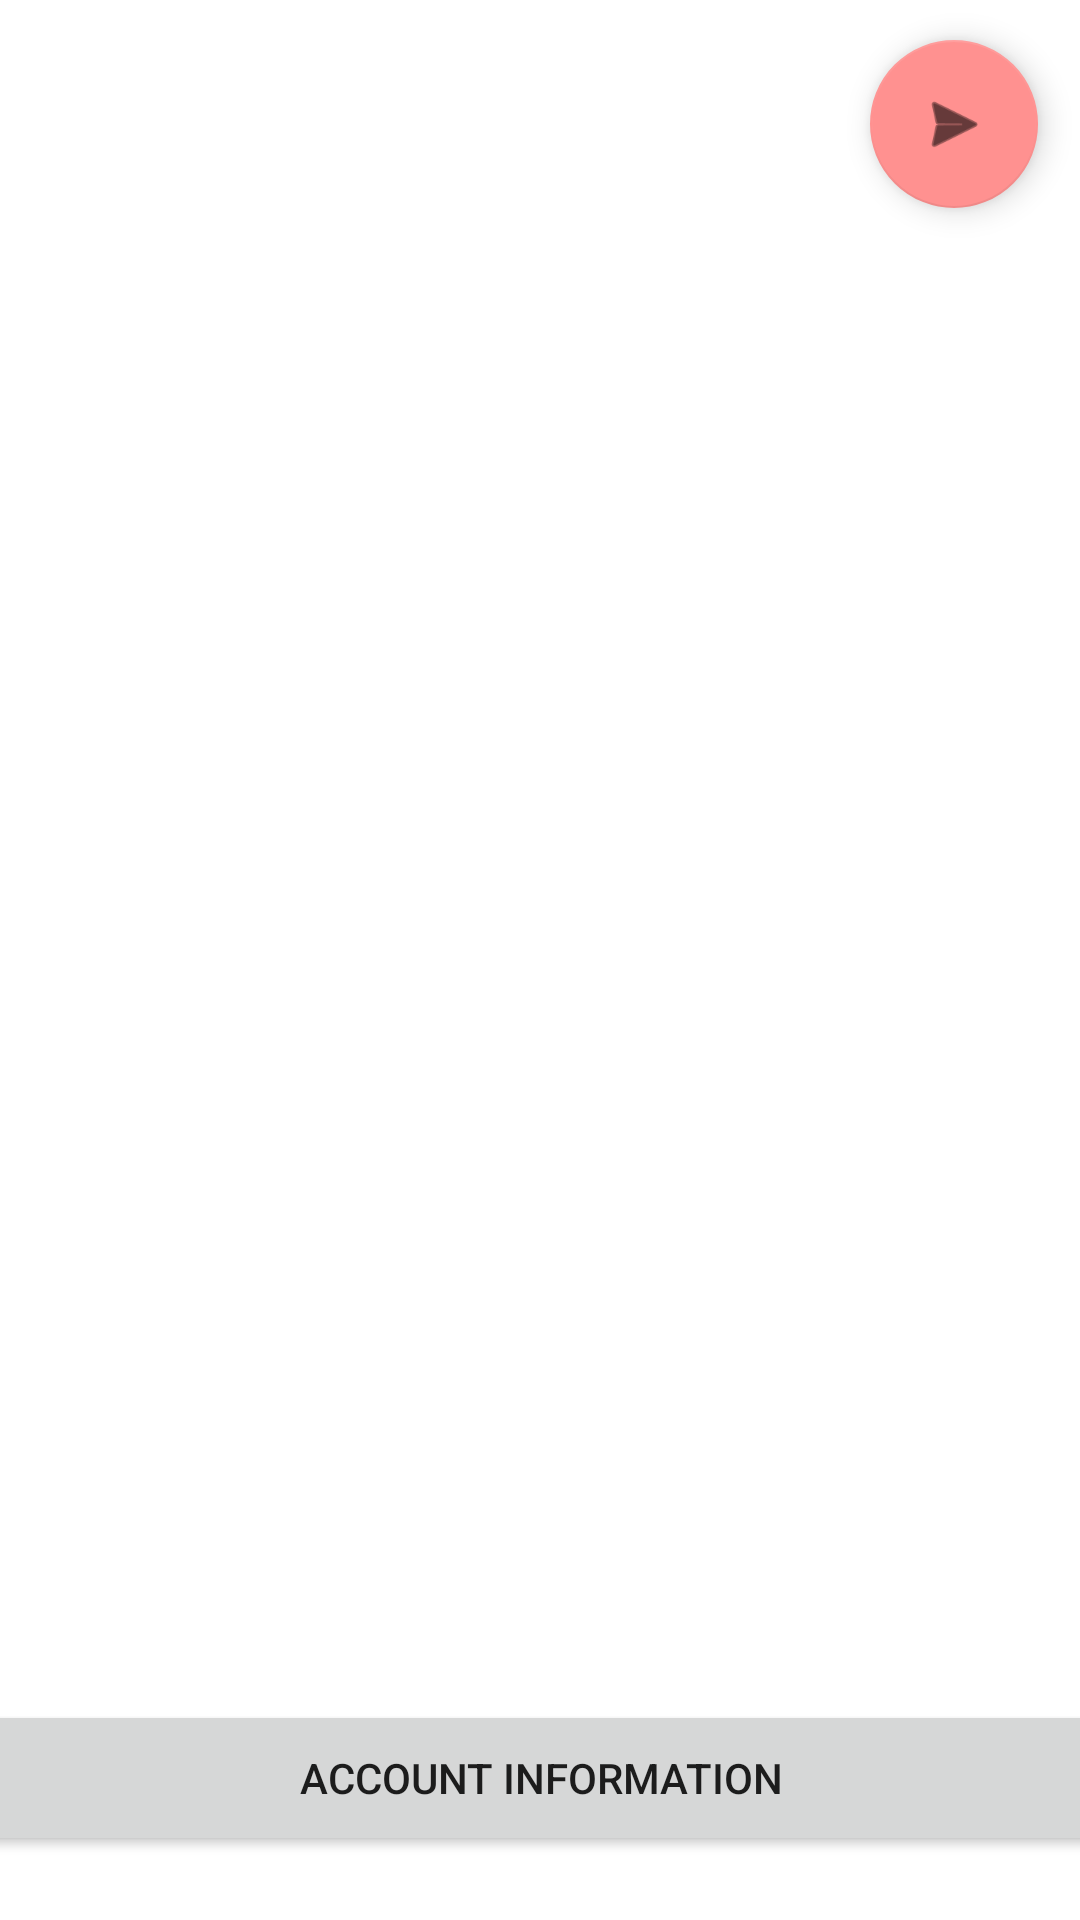

Icons on this 1080*1920 Android screen, each with its box as (x1=x1, y1=y1, x2=x2, y2=y2):
send: (x1=870, y1=40, x2=1038, y2=208)
